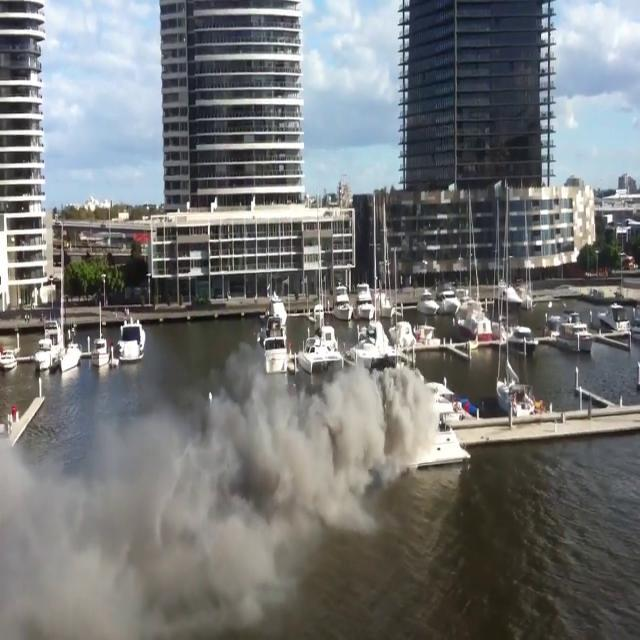Smoke: (1, 306, 427, 639)
